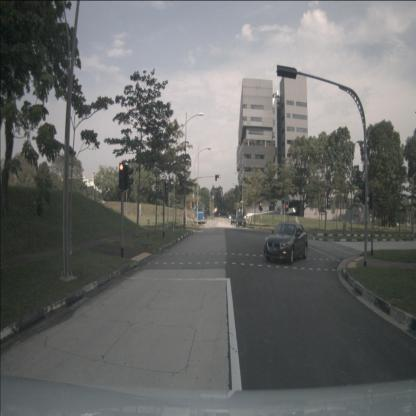vehicle-bus-rigid: (196, 204, 207, 224)
vehicle-car: (263, 222, 308, 265), (236, 215, 246, 228), (231, 215, 236, 225)
